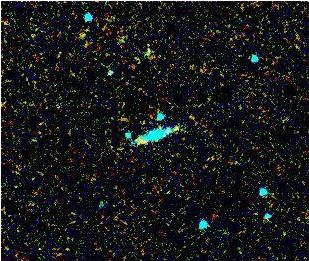star: (163, 115, 193, 145)
